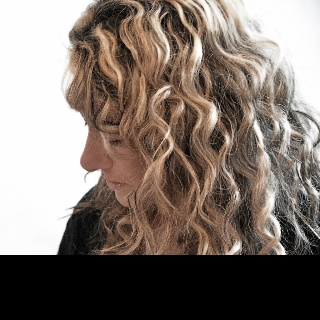without_mask: (55, 0, 320, 255)
